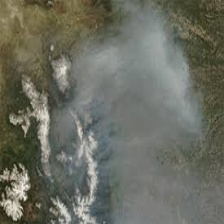smoke: (92, 52, 187, 215)
